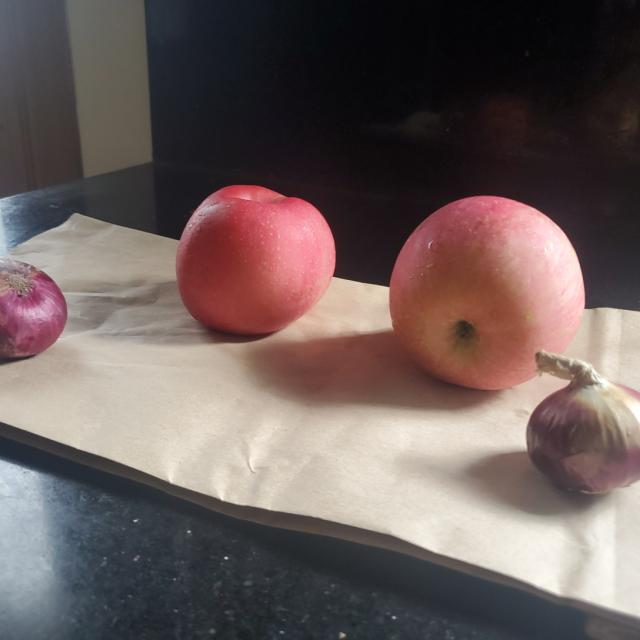apple: (384, 195, 582, 393), (178, 183, 341, 336)
onion: (523, 354, 639, 504), (0, 256, 68, 368)
